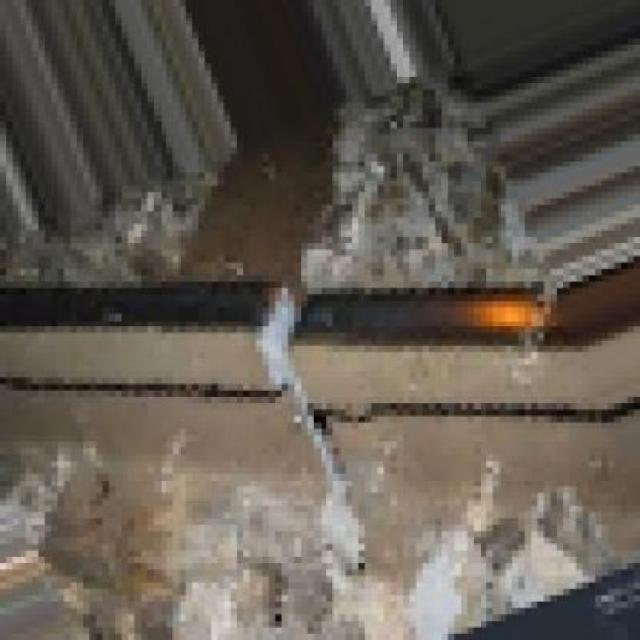defective: (94, 144, 640, 638)
